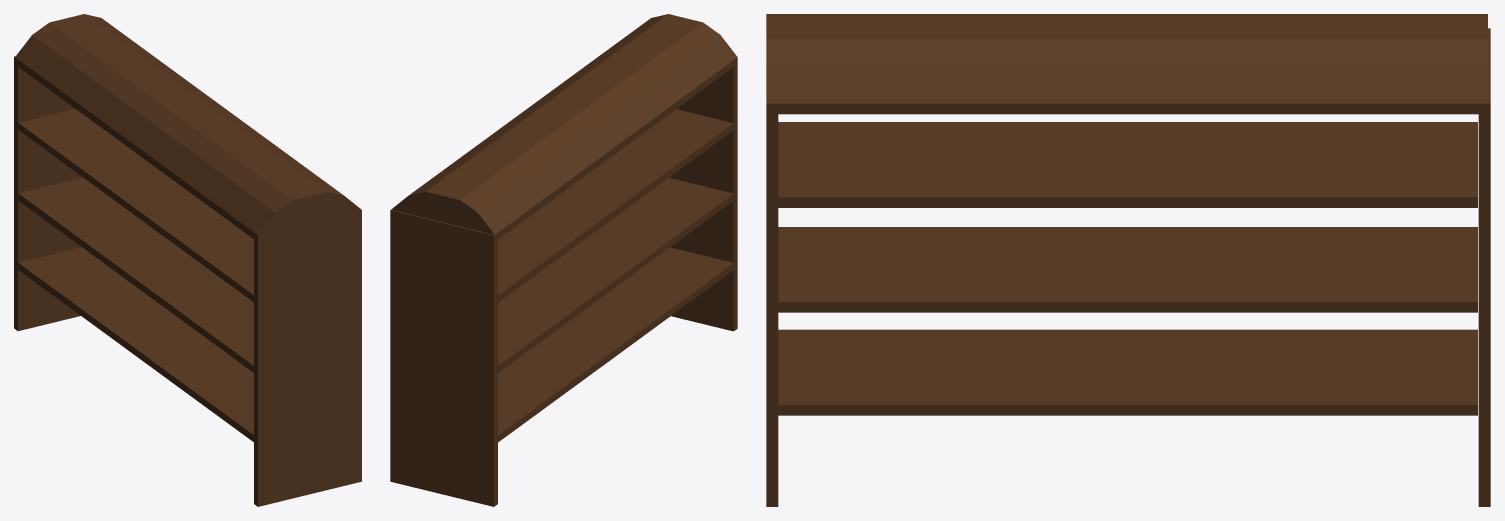
The model's file is kastje insectenwinkel.fbx.
3 renders of one model, left to right at view 1: azimuth 30°, elevation 25°; view 2: azimuth 150°, elevation 25°; view 3: azimuth 270°, elevation 25°, orthographic. The views are drawn at different scales.
Parts seen in each view (by area): view 1: Cube.004, Cube.002, Cube.001, Cube.006, Cube.003, Cube.005; view 2: Cube.005, Cube.002, Cube.001, Cube.006, Cube.003, Cube.004; view 3: Cube.002, Cube.006, Cube.001, Cube.003, Cube.005, Cube.004.
Boxes of the visible parts, <box> form: Cube.004: <box>254,210,361,506</box>; Cube.002: <box>15,14,361,238</box>; Cube.001: <box>18,177,253,372</box>; Cube.006: <box>18,247,254,442</box>; Cube.003: <box>18,109,254,302</box>; Cube.005: <box>14,56,82,331</box>; Cube.005: <box>390,209,497,506</box>; Cube.002: <box>391,14,737,241</box>; Cube.001: <box>498,178,733,372</box>; Cube.006: <box>498,247,733,442</box>; Cube.003: <box>498,109,733,302</box>; Cube.004: <box>669,64,737,331</box>; Cube.002: <box>766,14,1487,114</box>; Cube.006: <box>778,329,1477,415</box>; Cube.001: <box>777,227,1477,312</box>; Cube.003: <box>777,122,1477,207</box>; Cube.005: <box>1478,28,1490,506</box>; Cube.004: <box>766,103,778,506</box>.
Bounding box in the file's own units: 200 × 549 × 814.
